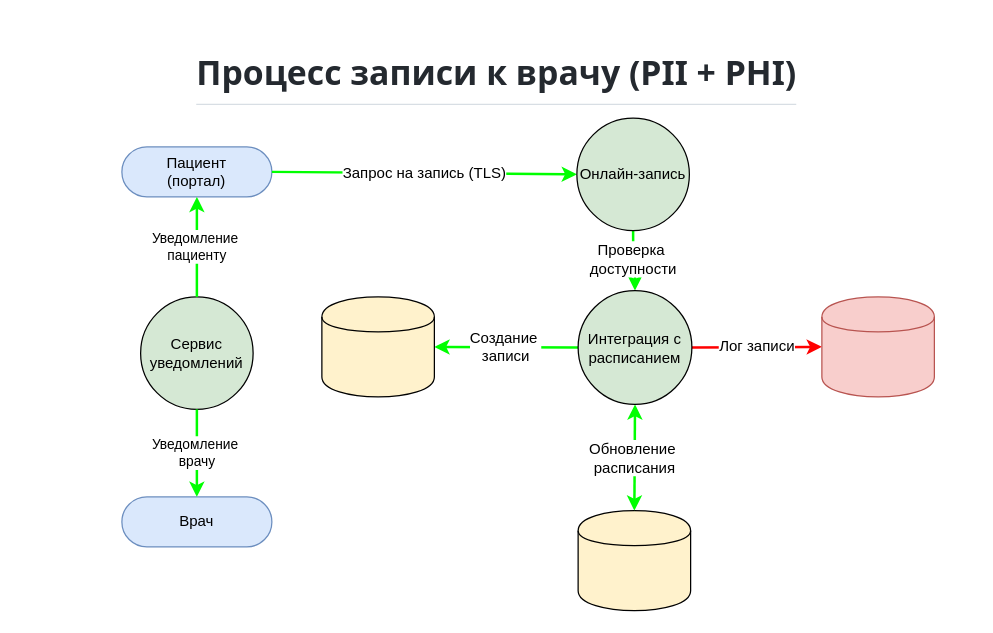
Image size: 993x633. Some labels were removed from this diagram. The box of each missing label's shape, as (x1, y1, x2, y2) in pixels:
Аудит записей: (821, 296, 934, 397)
База записей (TDE): (321, 296, 434, 397)
Расписание врачей: (577, 509, 691, 611)
